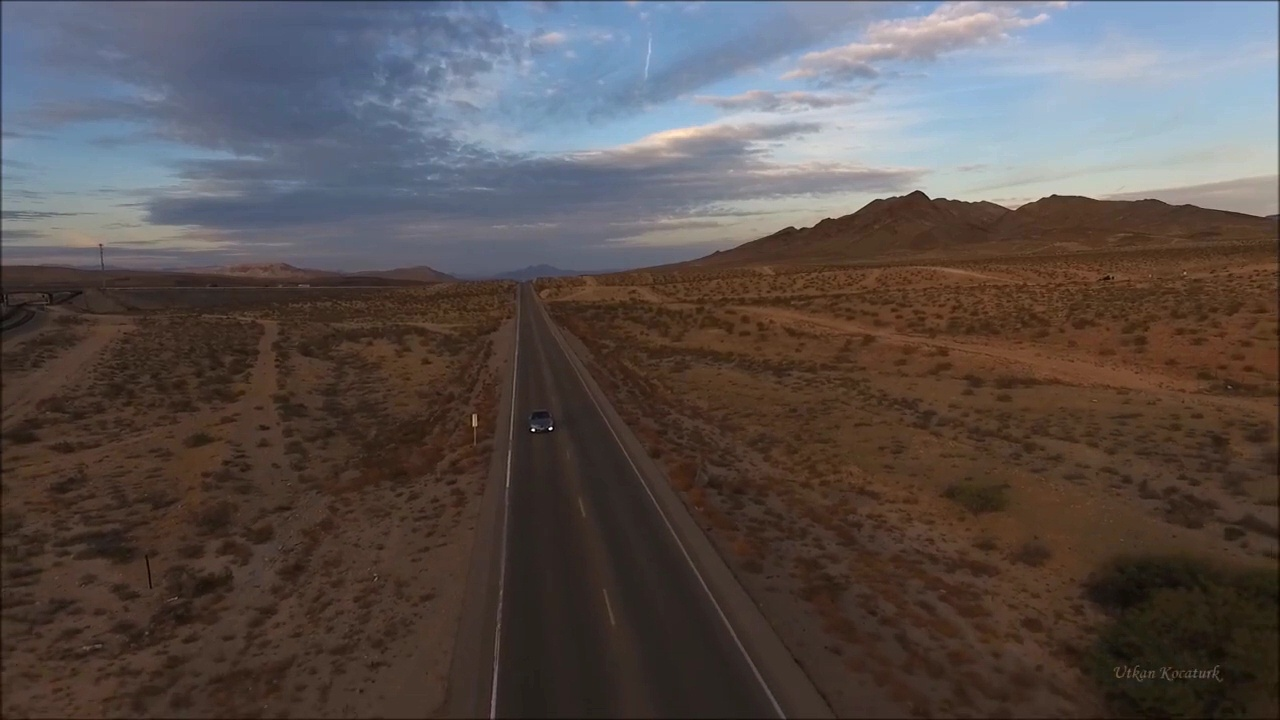araba: (528, 408, 557, 436)
